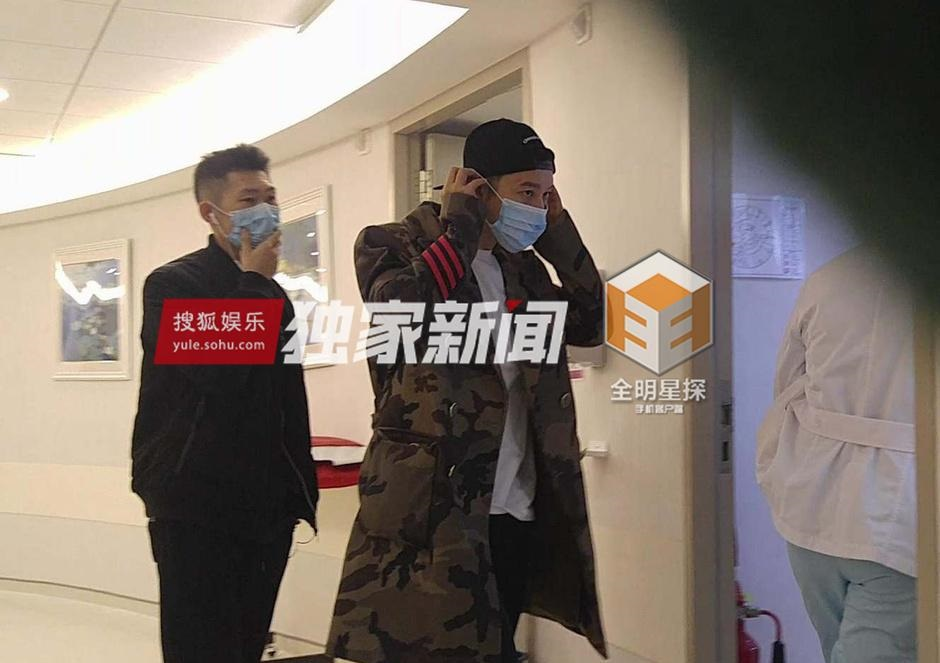face_mask: (489, 164, 553, 251), (226, 174, 280, 249)
